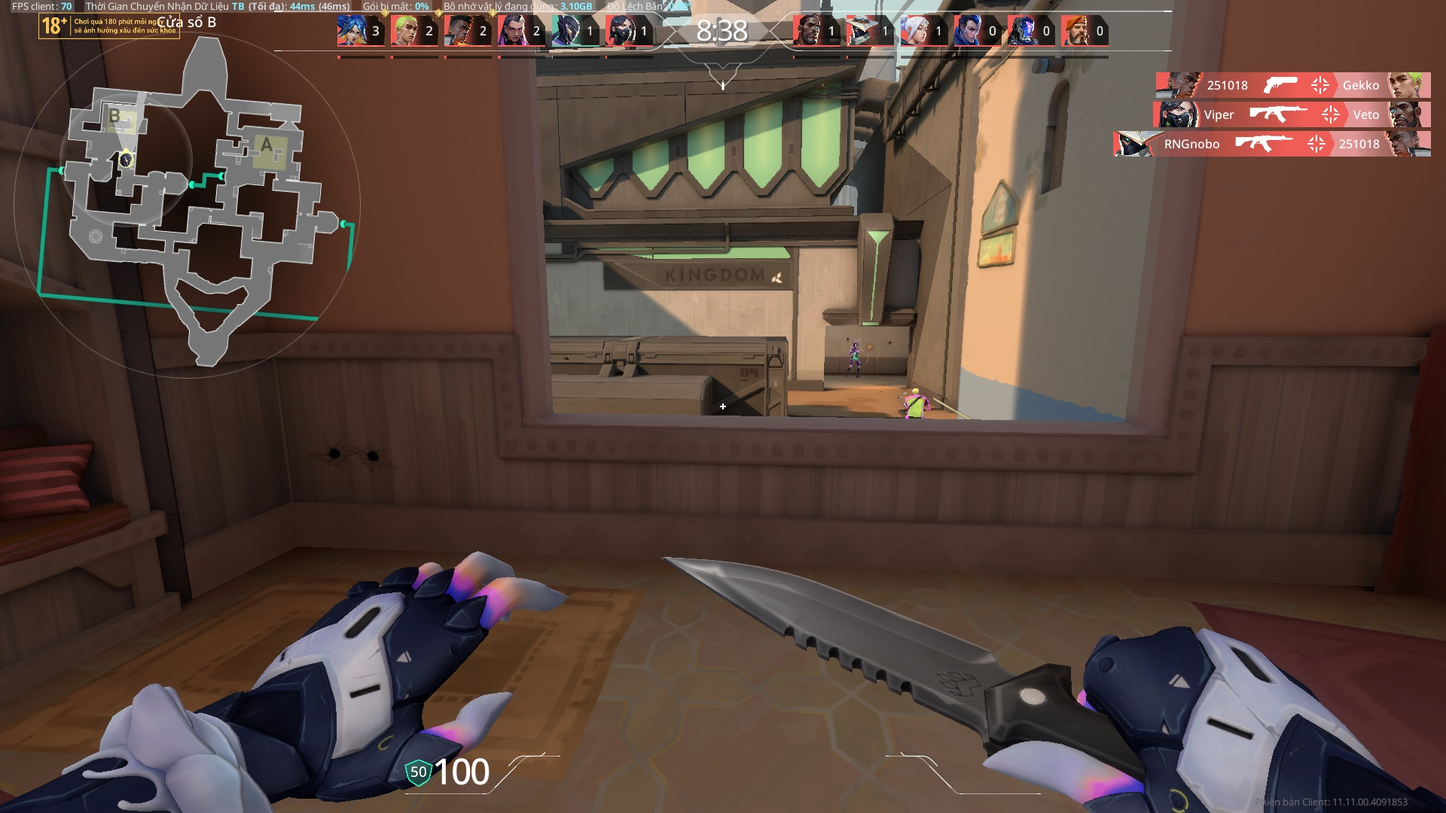body: (850, 349, 862, 358)
head: (851, 339, 861, 349)
